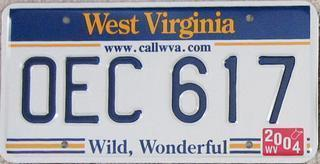placa de veiculo: (0, 0, 317, 164)
